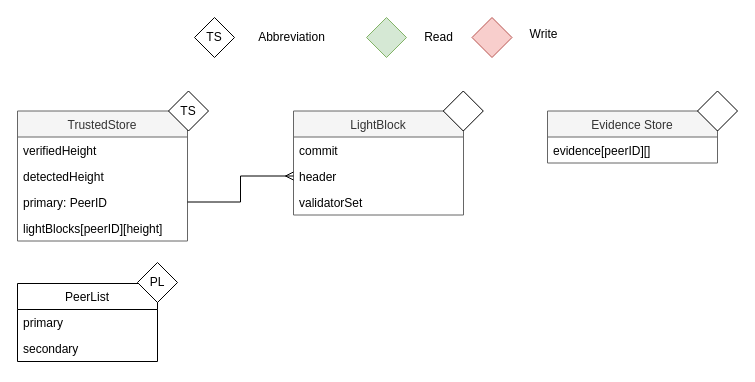
Some shapes in this 755 by 382 pixel diagram are drawn without their labels. Here are the shapes that lost their labels. From the top down, the centre of each, then its label:
At (x=462, y=110): "LB".
At (x=717, y=110): "ES".
